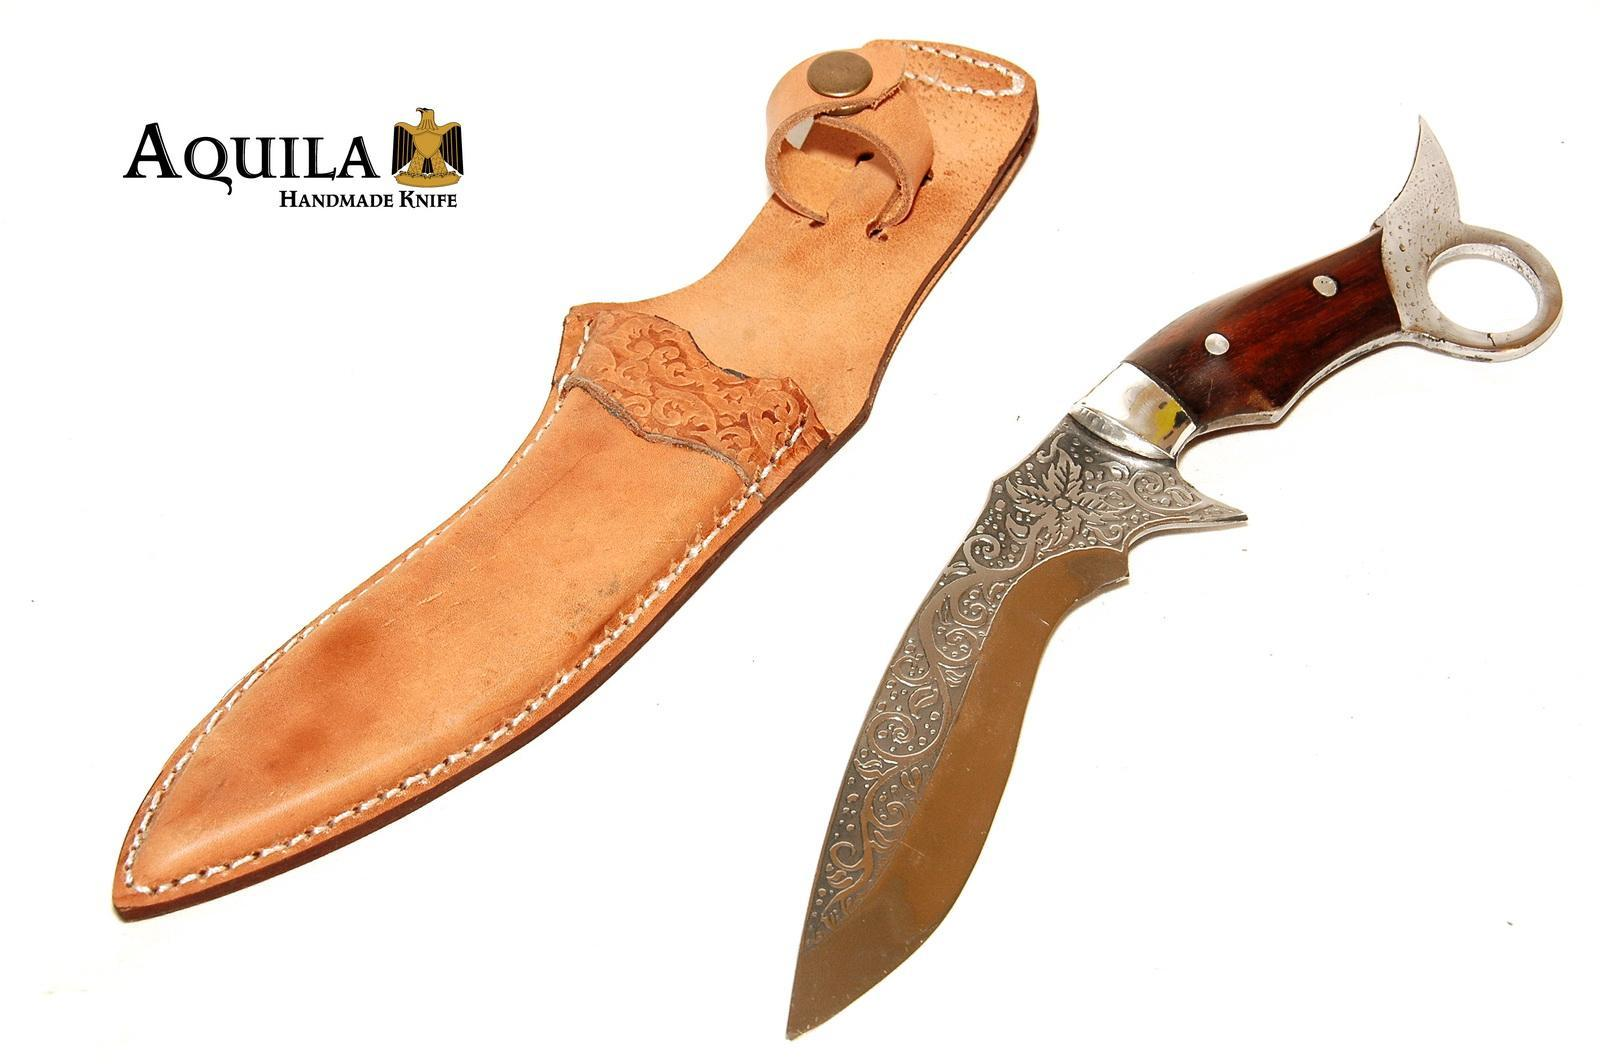facao: (748, 104, 1525, 1011)
